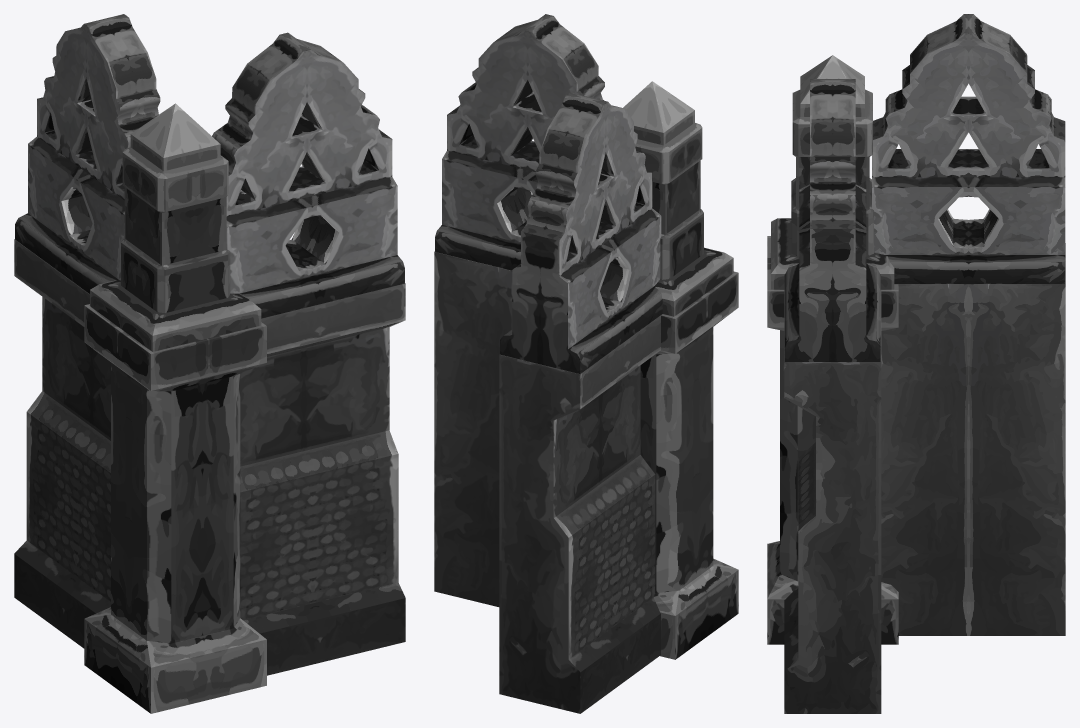
File: VV-WalakuluBemma-8.fbx
3 views of the same model, side by side, from view 1: azimuth 30°, elevation 25°; view 2: azimuth 150°, elevation 25°; view 3: azimuth 270°, elevation 25° (orthographic). The views are drawn at different scales.
Parts seen in each view (by area): view 1: WalakuluBemmaBuild-8; view 2: WalakuluBemmaBuild-8; view 3: WalakuluBemmaBuild-8.
Part boxes in pixels (x1,y1,x2,y2): WalakuluBemmaBuild-8: (14,14,405,713); WalakuluBemmaBuild-8: (434,14,738,713); WalakuluBemmaBuild-8: (767,14,1065,713).
Bounding box in the file's own units: 1.54 × 3.37 × 1.54.
